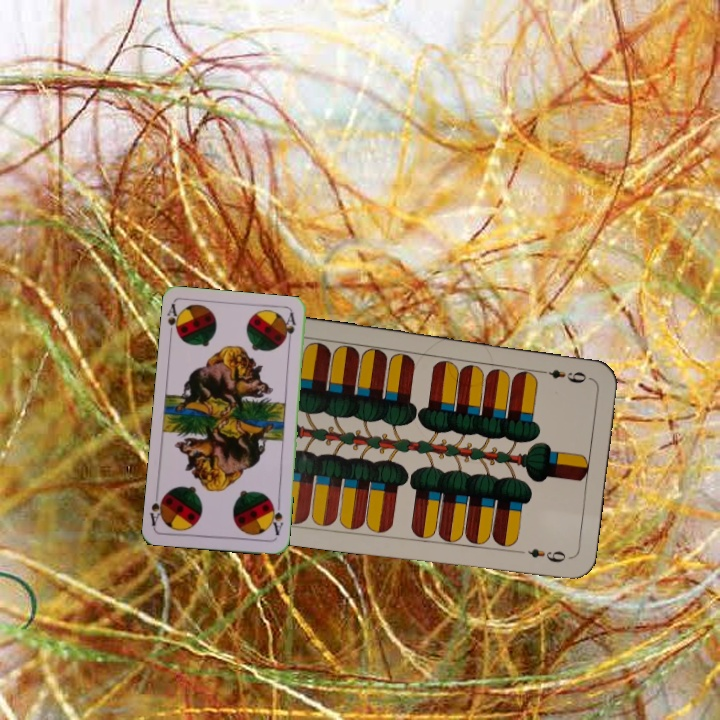E9: (534, 365, 593, 386)
SA: (164, 300, 184, 341), (267, 499, 286, 538)
